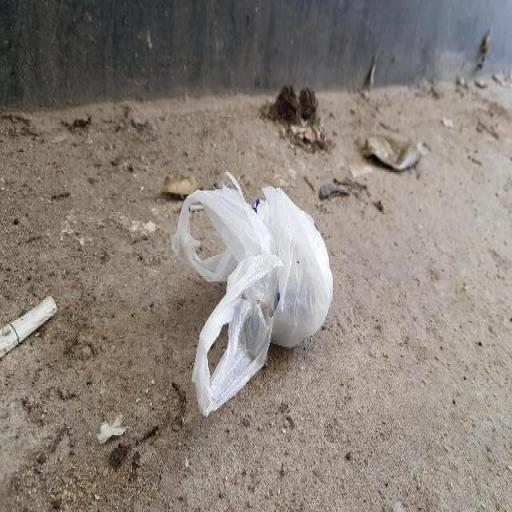plastic-bag: (171, 170, 335, 420)
